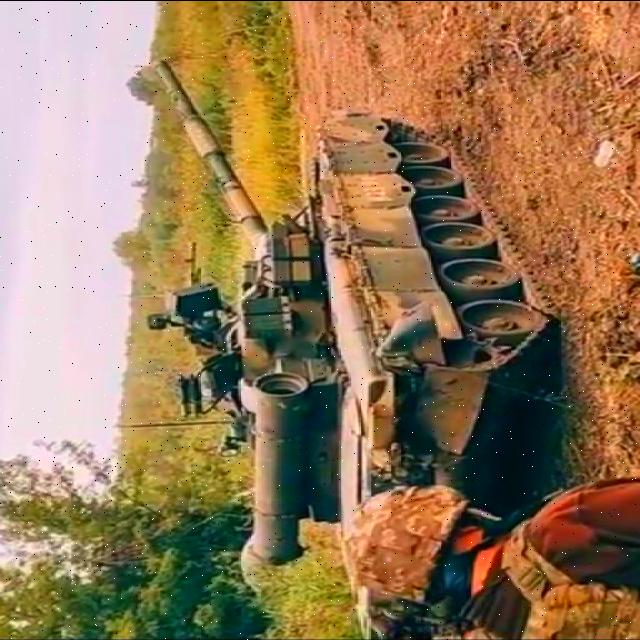TANK: (138, 56, 566, 640)
